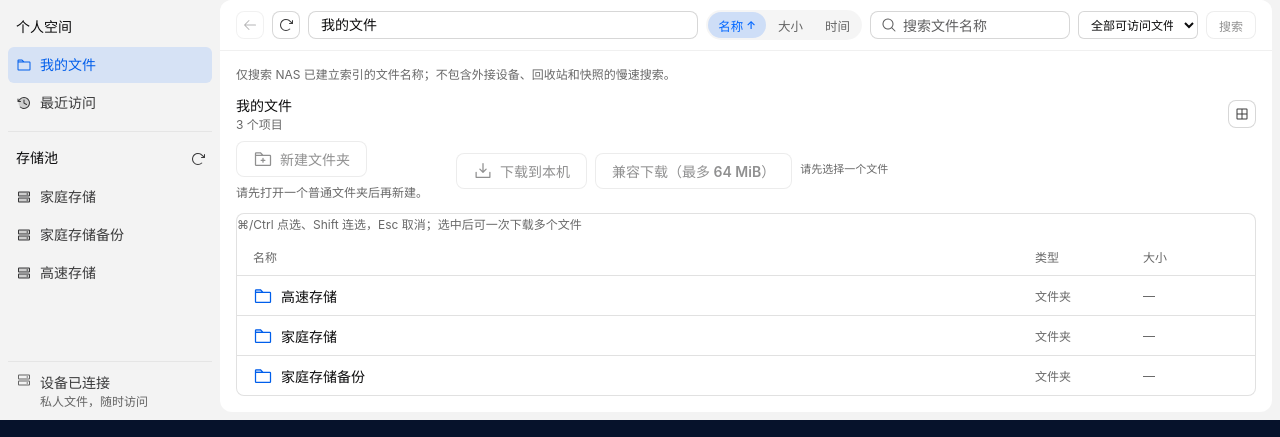
it: refreshes returned names without leaving a still-accessible directory or rereading its content
Click the button with aria-label "打开存储池：家庭存储" at (110,197), box [8,179,212,215]
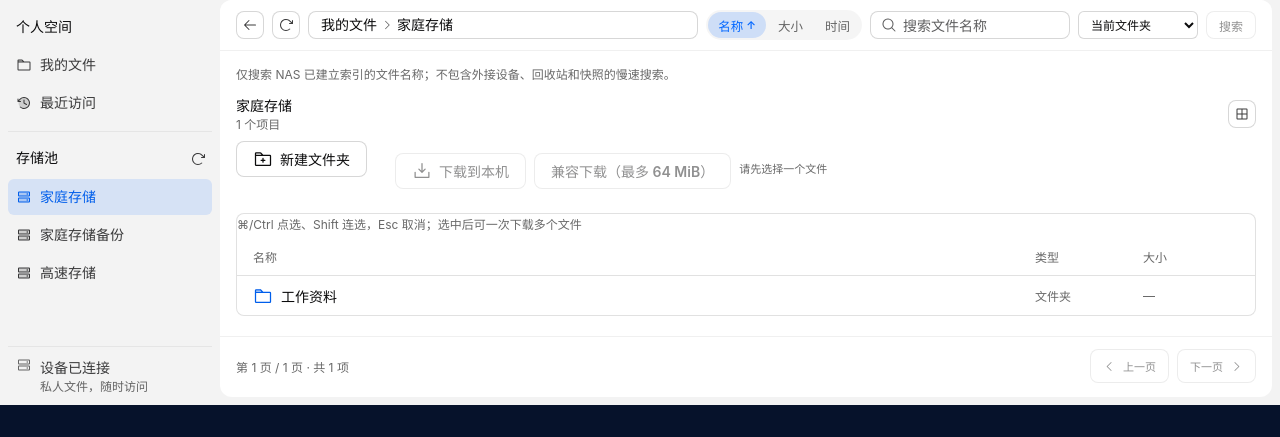
Result: the button named "工作资料文件夹" is shown at [237,275,1255,315]
Click the button named "刷新存储池" at (198,158), box [186,146,210,170]
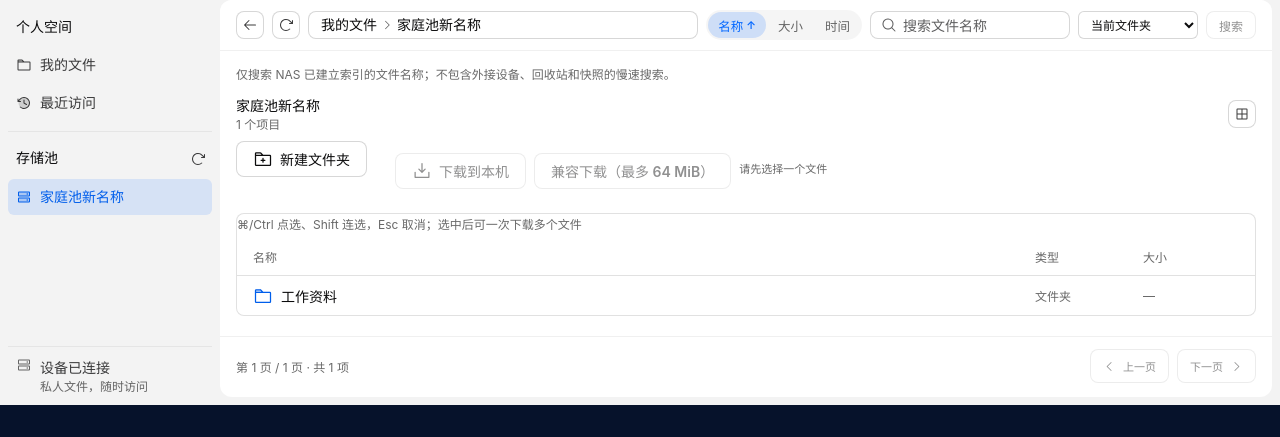
Result: the button named "工作资料文件夹" is shown at [237,275,1255,315]
Result: the heading "家庭池新名称" is shown at [236,95,320,117]
